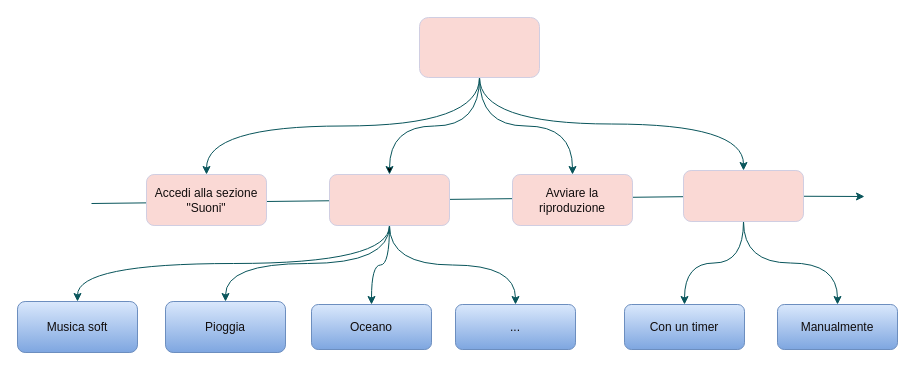
Some shapes in this 915 by 370 pixel diagram are drawn without their labels. Here are the shapes that lost their labels. From the top down, the centre of each, then its label:
At point (479, 47): "Suoni rilassanti o ambientali".
At point (389, 200): "Scegliere la tipologia".
At point (743, 196): "Interrompere".
